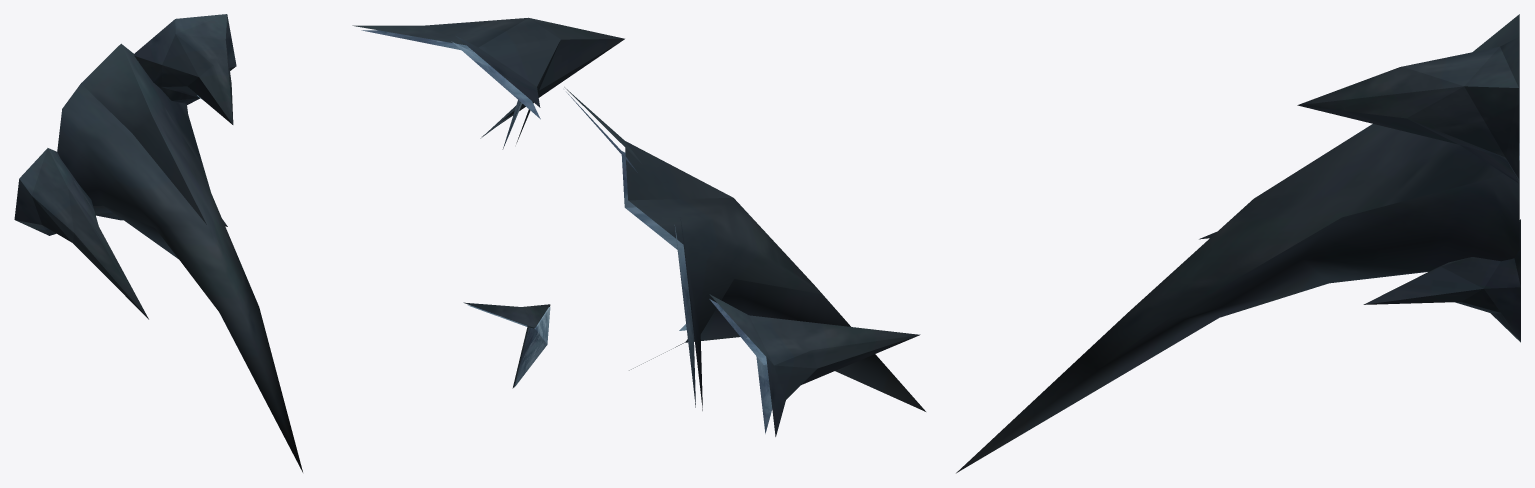
The picture shows the model from 3 angles, left to right: view 1: azimuth 30°, elevation 25°; view 2: azimuth 150°, elevation 25°; view 3: azimuth 270°, elevation 25°; orthographic projection. The views are drawn at different scales.
Parts seen in each view (by area): view 1: model_Object143; view 2: model_Object143; view 3: model_Object143.
Part boxes in pixels (x1=…): model_Object143: x1=14, y1=14, x2=302, y2=472; model_Object143: x1=352, y1=17, x2=925, y2=436; model_Object143: x1=956, y1=14, x2=1520, y2=473.
Size of the model in its own units: 2.09 by 2.78 by 2.98.
Materials: 2 (2 with a texture image).
